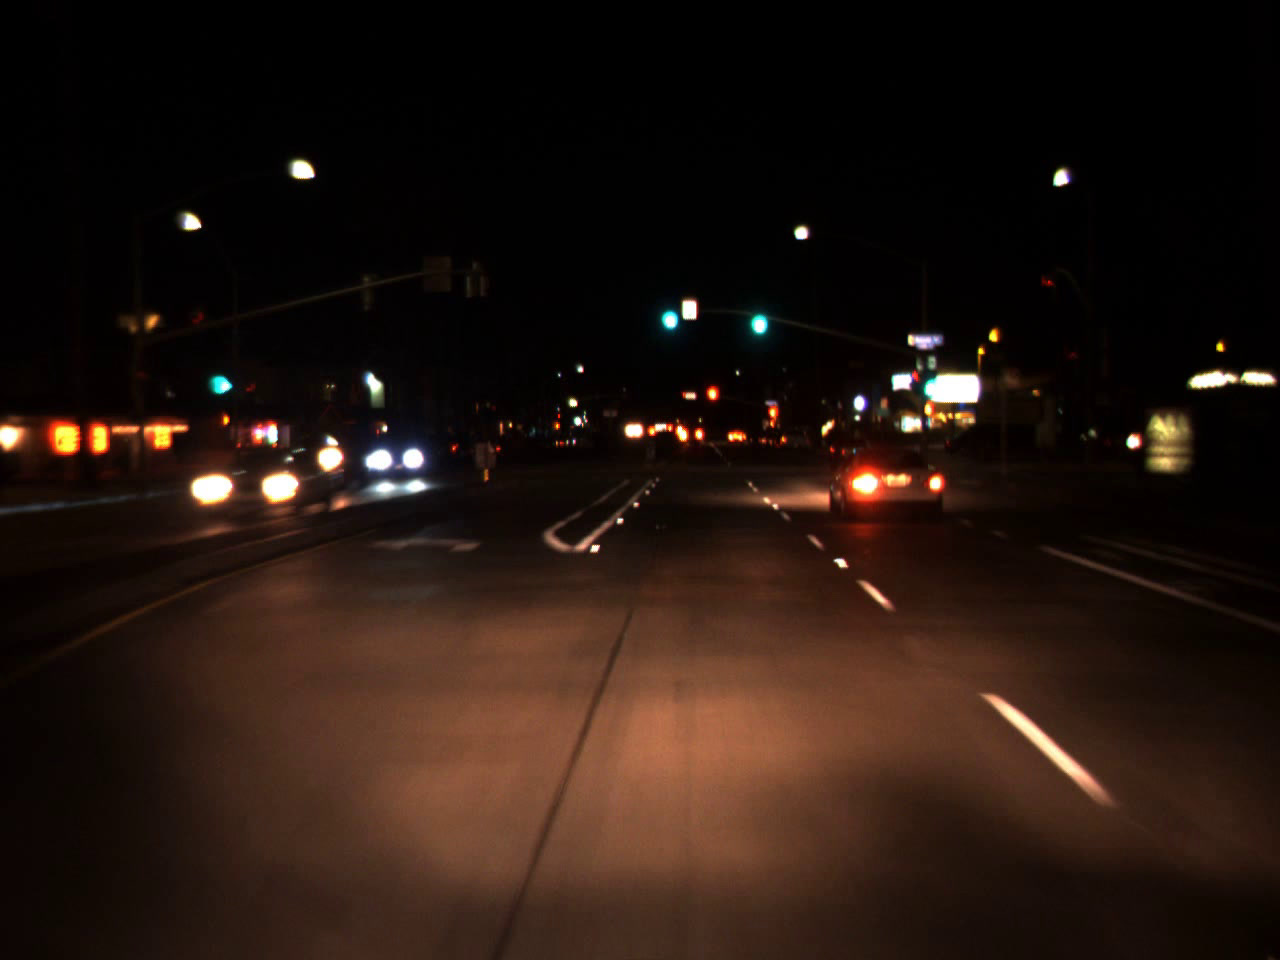go: (744, 290, 771, 341), (656, 288, 681, 336), (206, 353, 229, 401), (919, 358, 940, 406)
stop: (703, 382, 720, 419), (768, 405, 777, 432)
